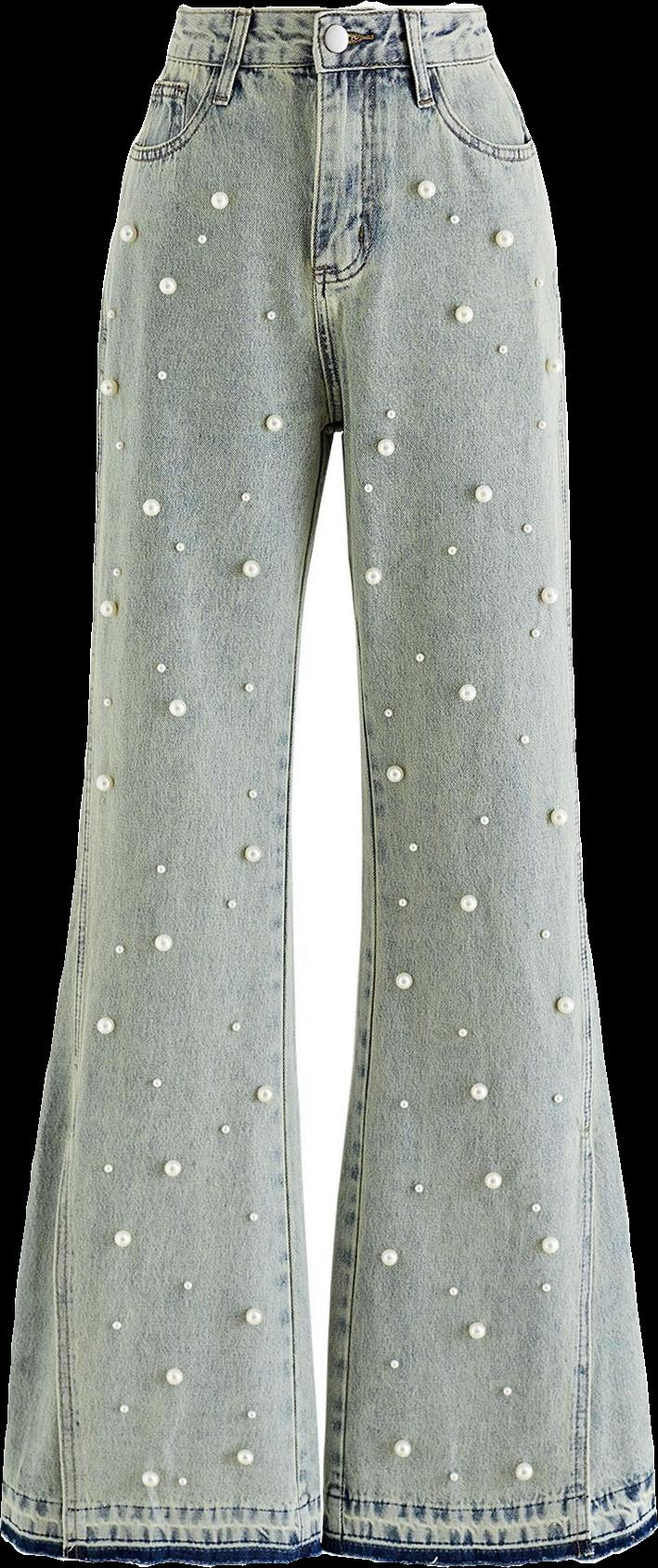Hemline: (325, 1507, 657, 1566), (1, 1531, 327, 1566)
Pantleg: (304, 3, 656, 1562), (0, 4, 331, 1567)
Waistline: (53, 893, 88, 1567), (571, 958, 606, 1556), (155, 45, 504, 81), (175, 0, 481, 28)
